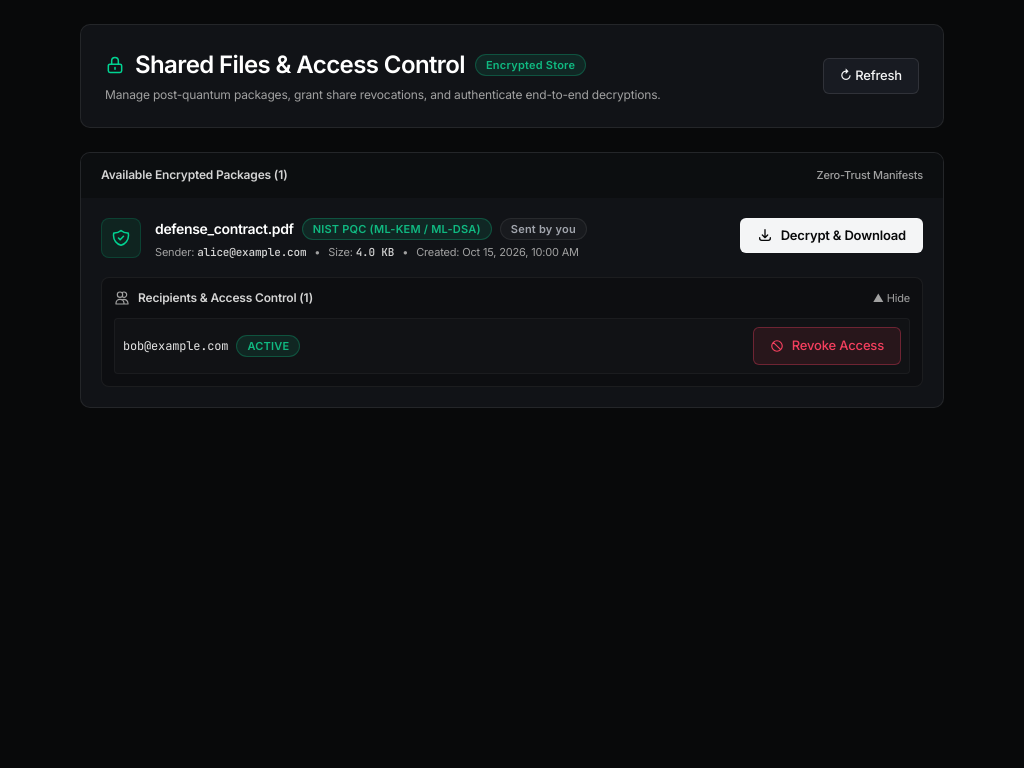
FileList and Decryption Component › Phase 6 Revocation UI (Task 6.3) › opens confirmation modal with warning and recipient details on revoke click
Note: Click revoke button
Step 1. Click the button with test id "revoke-btn-grant-bob-101" → (827, 346), box x1=753 y1=327 x2=901 y2=364
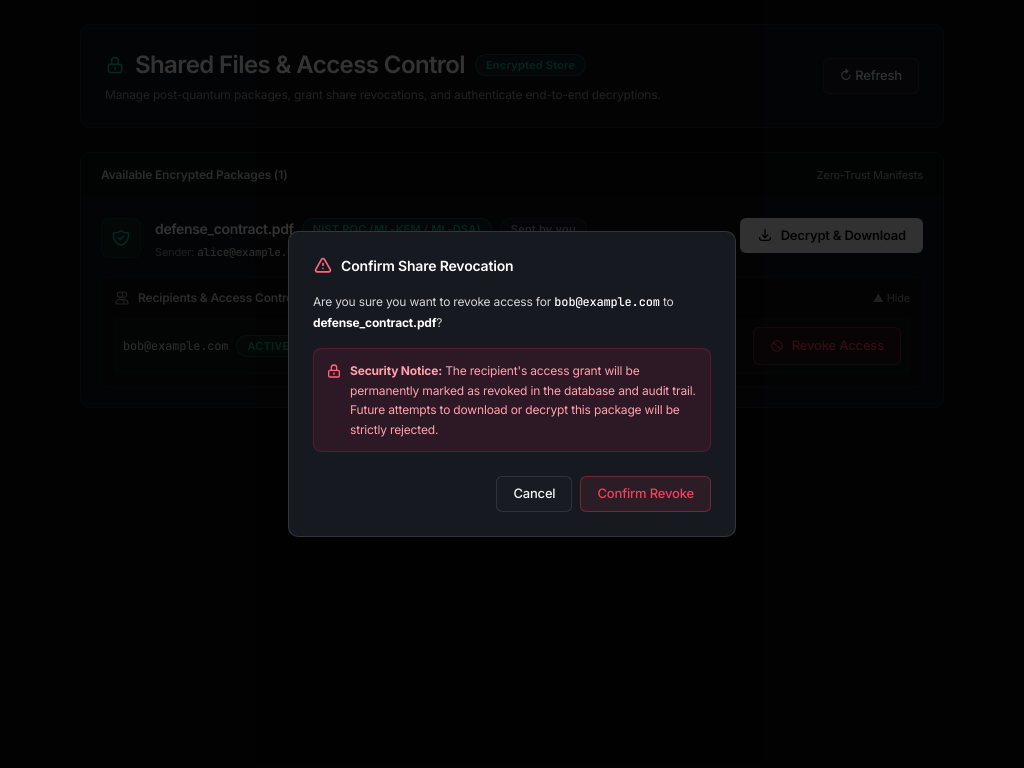
Check: the dialog with test id "revoke-confirmation-modal" is shown
Check: the heading "Confirm Share Revocation" is shown, box x1=341 y1=256 x2=514 y2=276
Check: the text "Are you sure you want to revoke access for" is shown, box x1=313 y1=294 x2=551 y2=309
